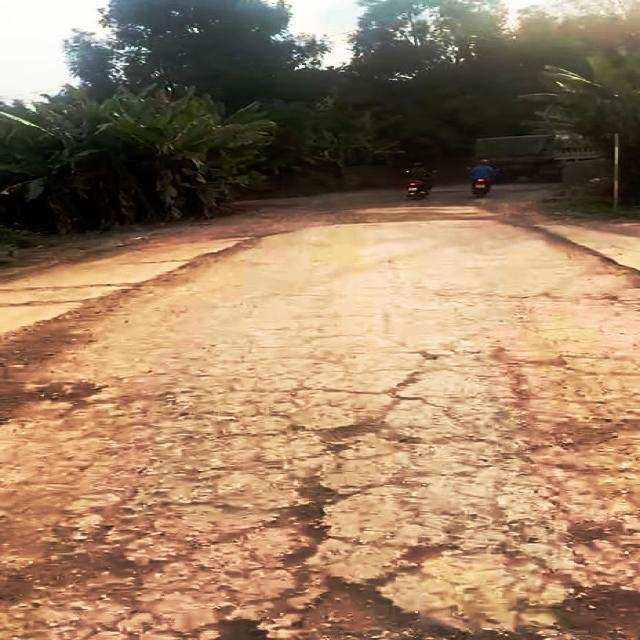pothole: (178, 559, 640, 640), (310, 411, 404, 455)
